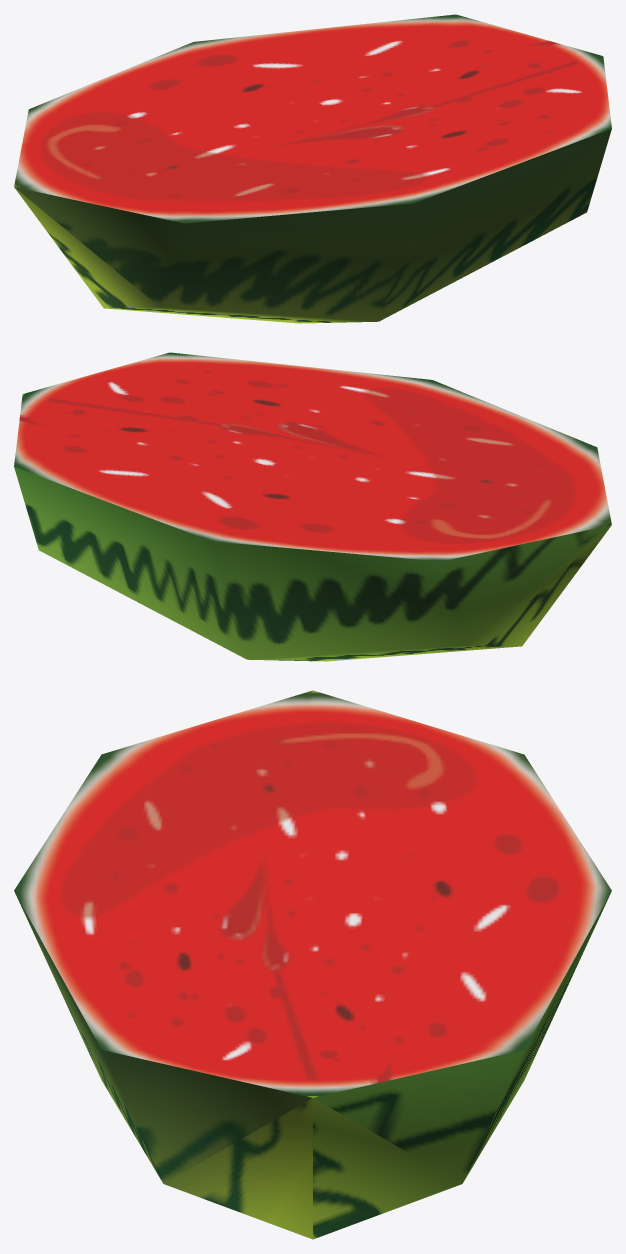
Rendered from WaterMelonS.FBX.
3 renders of one model, top to bottom at view 1: azimuth 30°, elevation 25°; view 2: azimuth 150°, elevation 25°; view 3: azimuth 270°, elevation 25°, orthographic. The views are drawn at different scales.
Visible parts, largest first — view 1: Water Melon slice; view 2: Water Melon slice; view 3: Water Melon slice.
Part boxes in pixels (bbox=[...]): Water Melon slice: bbox=[14, 14, 611, 323]; Water Melon slice: bbox=[14, 352, 611, 661]; Water Melon slice: bbox=[14, 690, 611, 1239].
Bounding box in the file's own units: 31.99 × 10.7 × 20.74.
